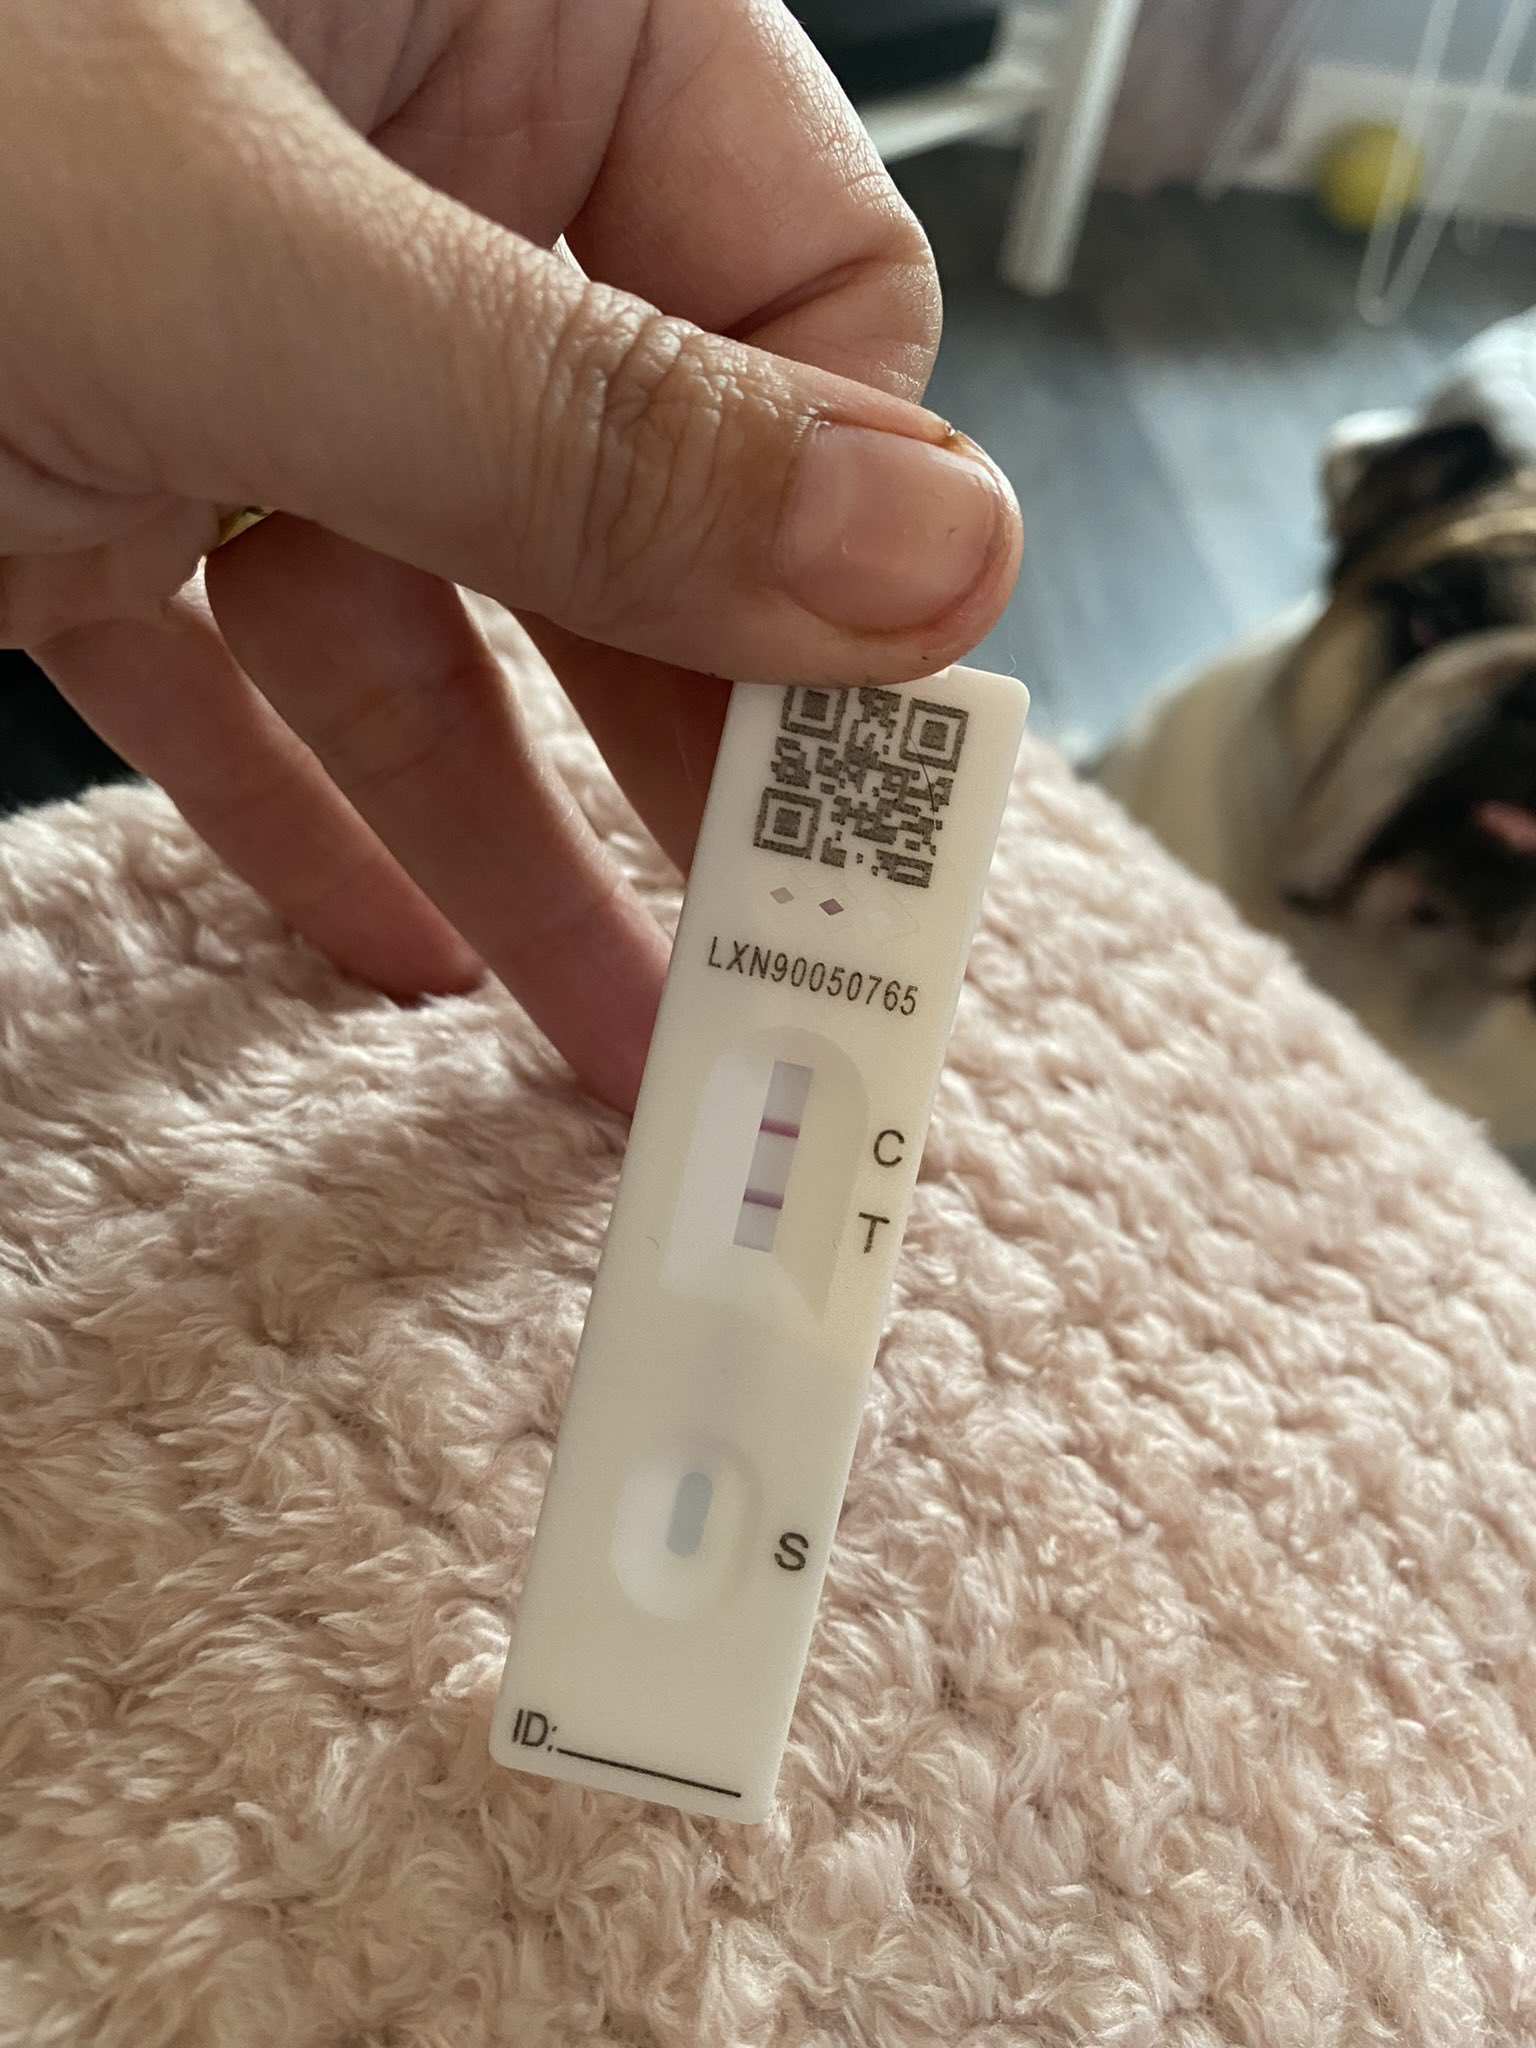positive: (720, 1021, 824, 1303)
